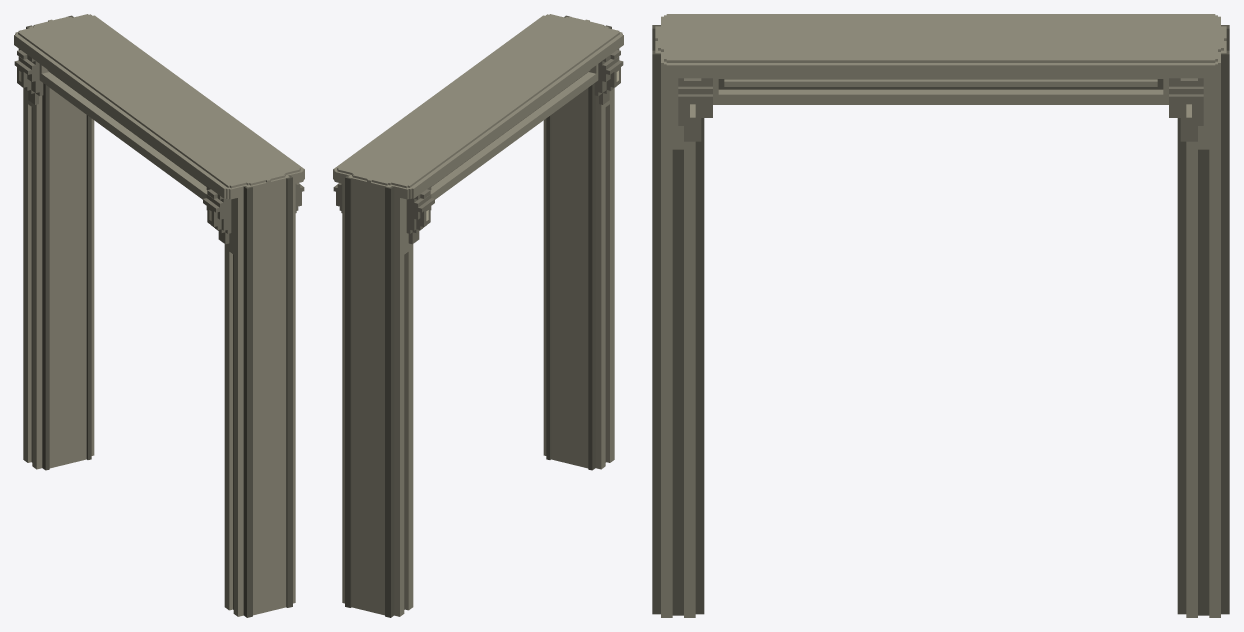
Rendered from factory4.2+-3.obj.
The picture shows the model from 3 angles, left to right: view 1: azimuth 30°, elevation 25°; view 2: azimuth 150°, elevation 25°; view 3: azimuth 270°, elevation 25°; orthographic projection. The views are drawn at different scales.
Bounding box in the file's own units: 4.6 × 21.5 × 20.
1 material, 1 textured.
